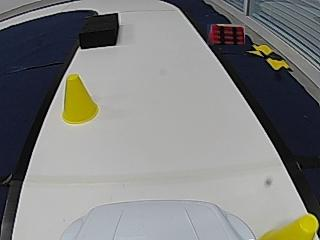block: (79, 12, 118, 48)
cone: (260, 205, 318, 239), (62, 74, 100, 125)
